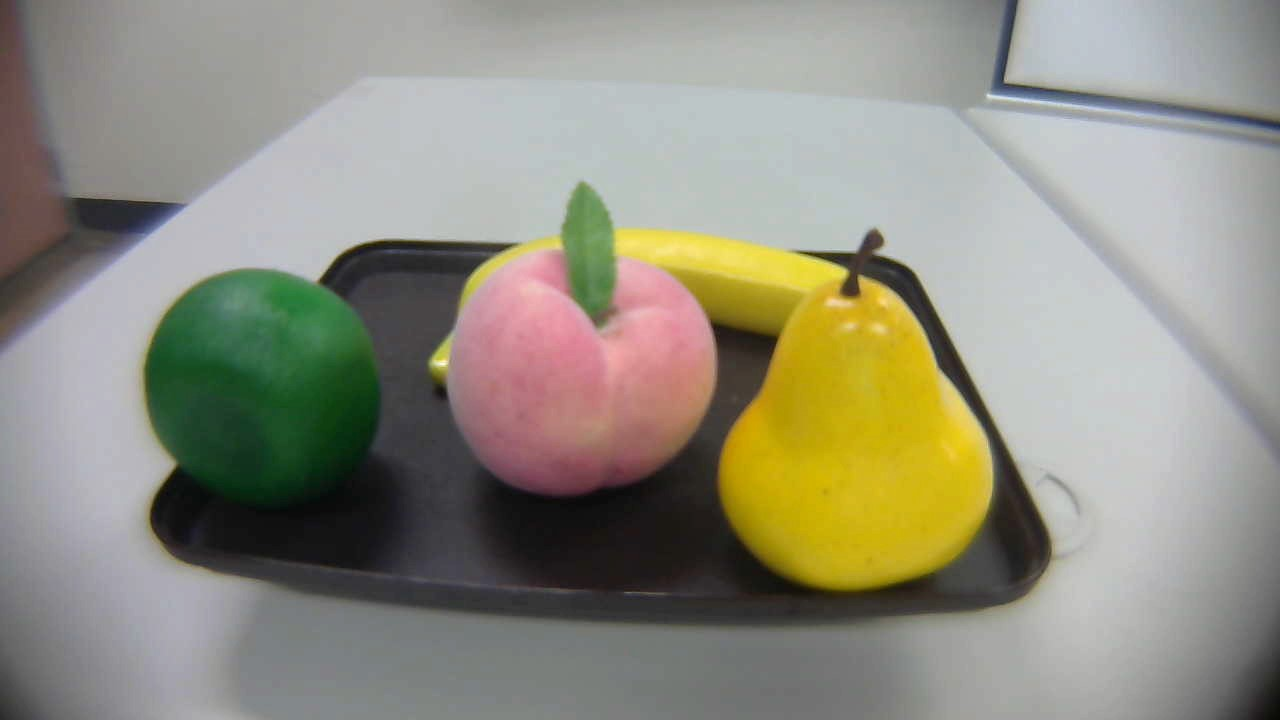banana: (434, 210, 901, 395)
green orange: (142, 264, 386, 519)
peach: (440, 174, 718, 488)
yellow pear: (718, 227, 996, 590)
